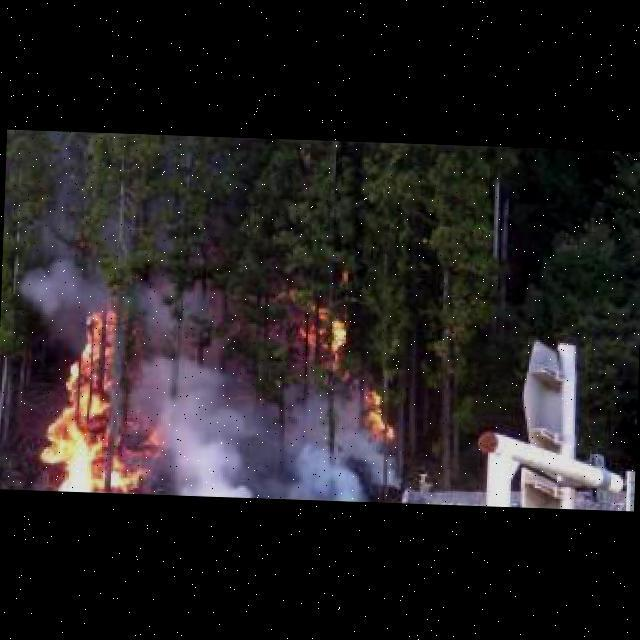Fire: (32, 301, 164, 493), (295, 308, 341, 371), (360, 388, 394, 439)
